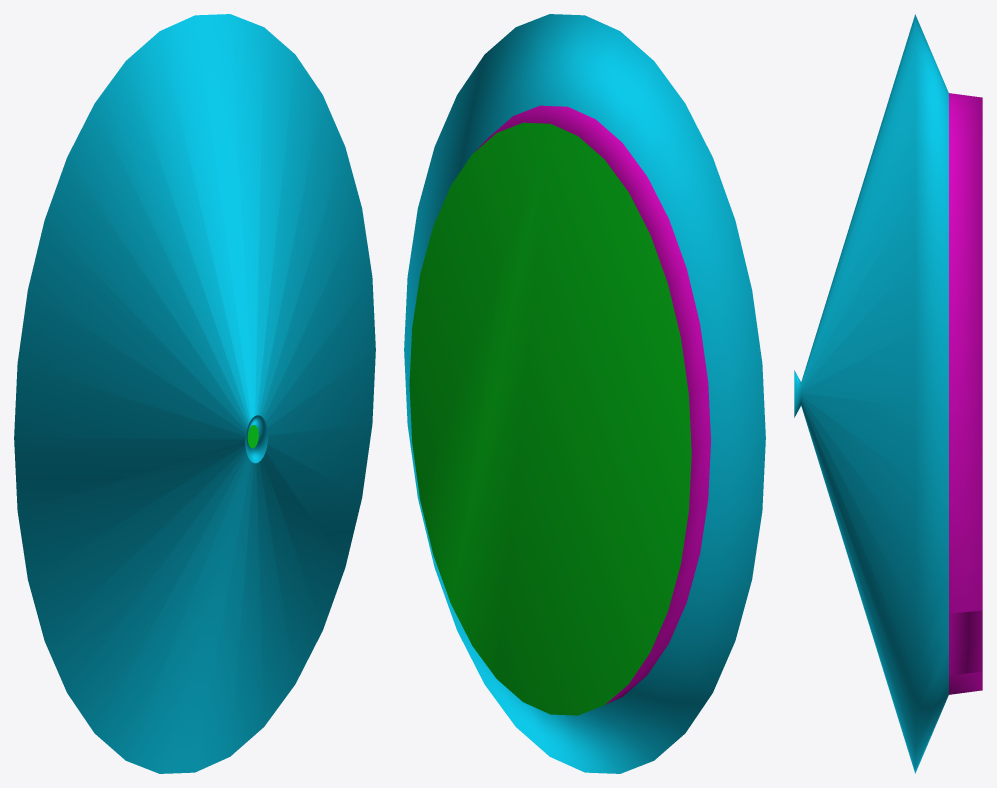
File: chozaG.fbx
3 views of the same model, side by side, from view 1: azimuth 30°, elevation 25°; view 2: azimuth 150°, elevation 25°; view 3: azimuth 270°, elevation 25° (orthographic). The views are drawn at different scales.
Parts seen in each view (by area): view 1: Cylinder.003; view 2: Cylinder.003; view 3: Cylinder.003.
Part boxes in pixels (x1=…): Cylinder.003: x1=14, y1=14, x2=375, y2=773; Cylinder.003: x1=404, y1=14, x2=765, y2=773; Cylinder.003: x1=794, y1=14, x2=982, y2=773.
Bounding box in the file's own units: 5.59 × 11.19 × 2.58.
